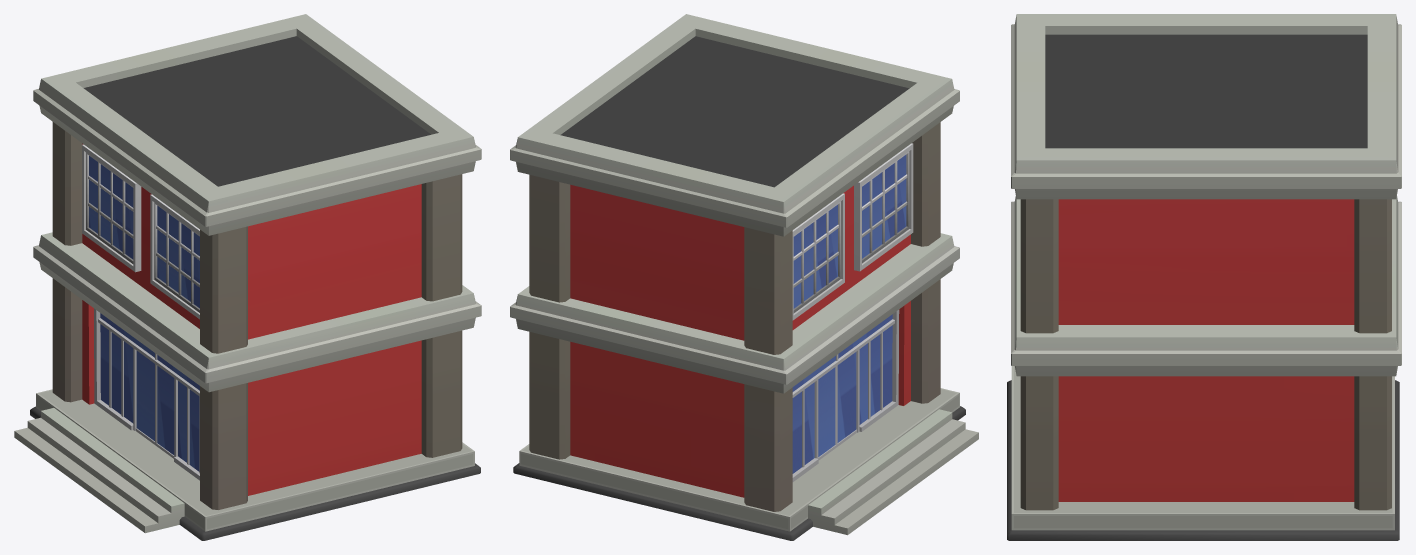
File: Building_9_2_BB.fbx
The picture shows the model from 3 angles, left to right: view 1: azimuth 30°, elevation 25°; view 2: azimuth 150°, elevation 25°; view 3: azimuth 270°, elevation 25°; orthographic projection. The views are drawn at different scales.
Visible parts, largest first — view 1: Building_9_2_BB; view 2: Building_9_2_BB; view 3: Building_9_2_BB.
Boxes of the visible parts, x1,y1,x2,y2 form: Building_9_2_BB: [14, 14, 481, 540]; Building_9_2_BB: [510, 14, 978, 540]; Building_9_2_BB: [1007, 14, 1401, 540].
Bounding box in the file's own units: 947 × 958 × 906.
